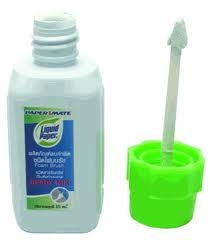Correction_fluid: (6, 9, 106, 236)
